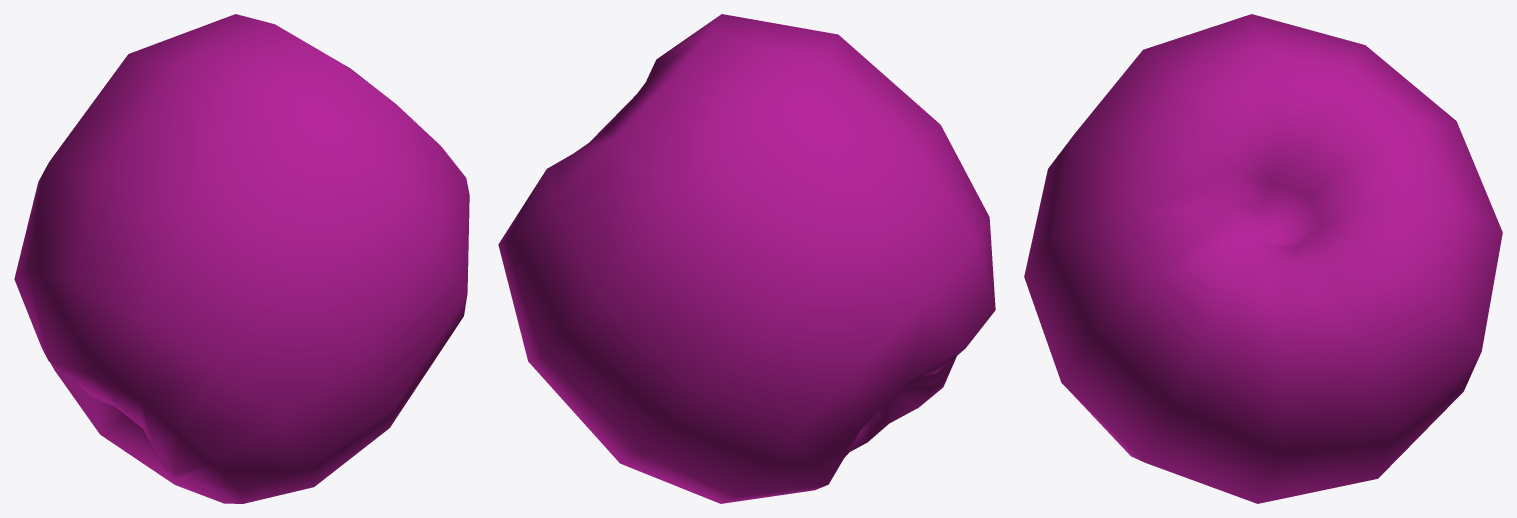
The model's file is apple.fbx.
3 views of the same model, side by side, from view 1: azimuth 30°, elevation 25°; view 2: azimuth 150°, elevation 25°; view 3: azimuth 270°, elevation 25° (orthographic). The views are drawn at different scales.
Visible parts, largest first — view 1: Apple; view 2: Apple; view 3: Apple.
Boxes of the visible parts, x1=… form: Apple: x1=14, y1=14, x2=469, y2=503; Apple: x1=498, y1=14, x2=995, y2=503; Apple: x1=1024, y1=14, x2=1502, y2=503.
Size of the model in its own units: 2.77 by 2.78 by 2.69.
